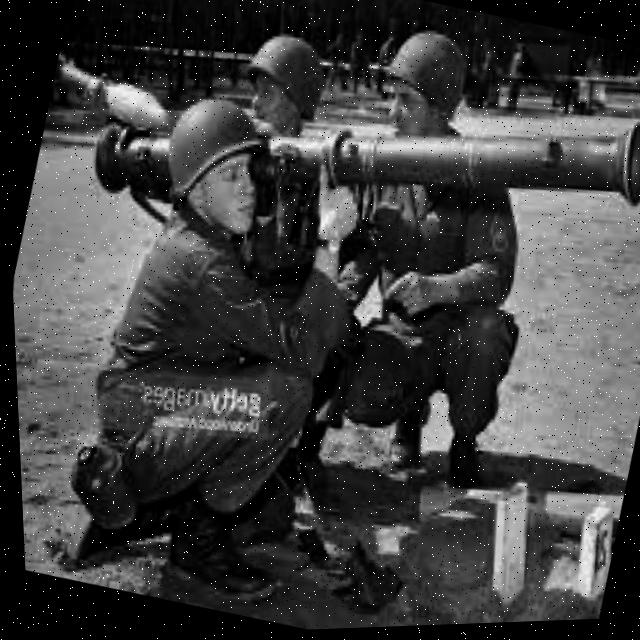rocket: (71, 0, 640, 326)
